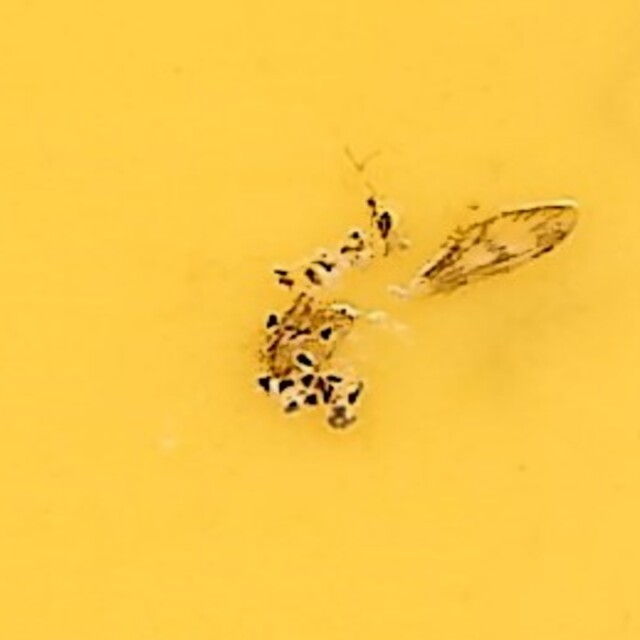Nematocera: (247, 198, 393, 442)
